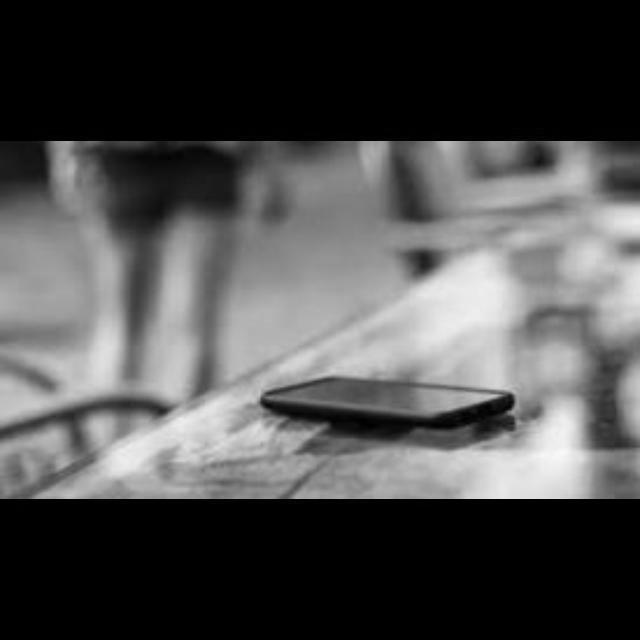fake: (254, 354, 546, 476)
